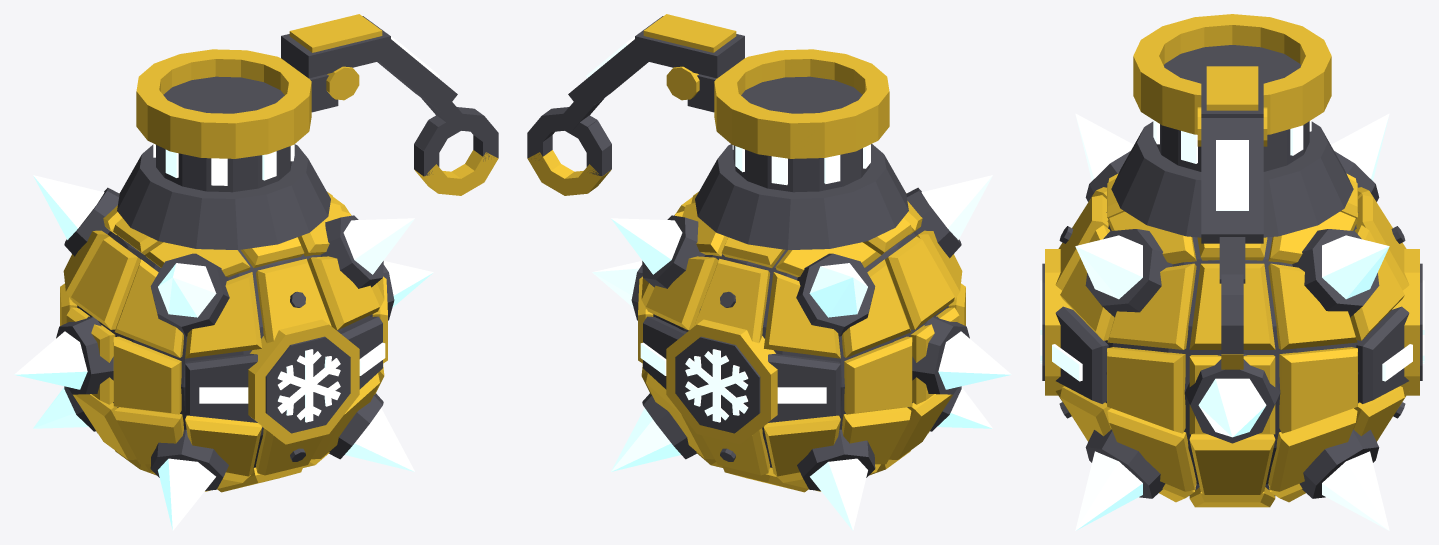
The model's file is FrostGrenade.fbx.
The picture shows the model from 3 angles, left to right: view 1: azimuth 30°, elevation 25°; view 2: azimuth 150°, elevation 25°; view 3: azimuth 270°, elevation 25°; orthographic projection. The views are drawn at different scales.
Visible parts, largest first — view 1: FrostGrenade, Lever, Pin; view 2: FrostGrenade, Lever, Pin; view 3: FrostGrenade, Lever, Pin.
Boxes of the visible parts, x1,y1,x2,y2 form: FrostGrenade: [14, 49, 433, 530]; Lever: [281, 14, 457, 113]; Pin: [414, 97, 498, 195]; FrostGrenade: [592, 49, 1011, 530]; Lever: [568, 14, 744, 113]; Pin: [527, 97, 611, 195]; FrostGrenade: [1040, 14, 1424, 530]; Lever: [1197, 66, 1267, 243]; Pin: [1219, 237, 1245, 369].
Bounding box in the file's own units: 0.1523 × 0.1253 × 0.0942.
